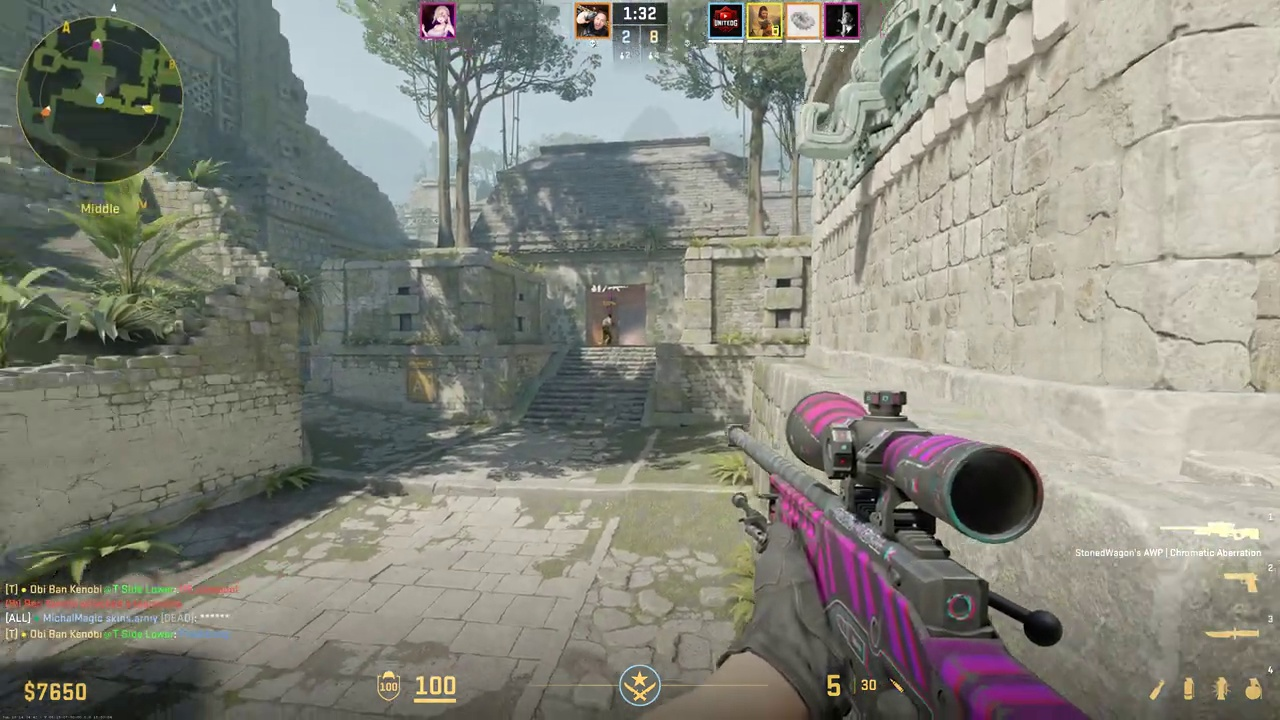Terrorist: (601, 313, 614, 345)
